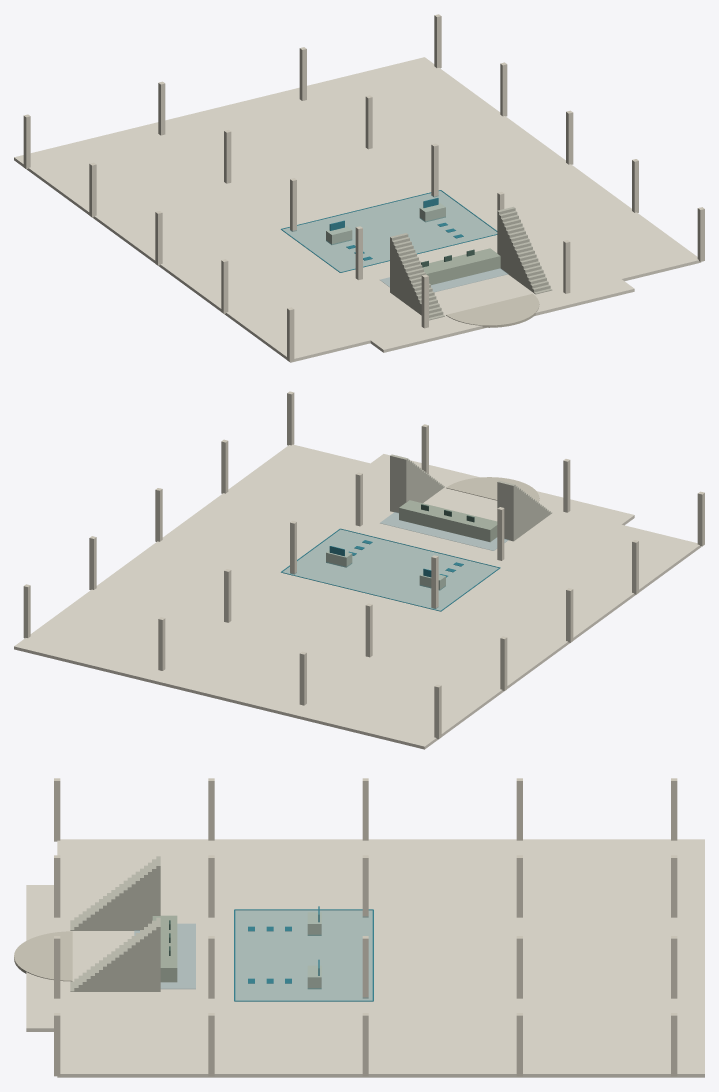
Rendered from 图书馆_1楼_试点启用.glb.
3 renders of one model, top to bottom at view 1: azimuth 30°, elevation 25°; view 2: azimuth 150°, elevation 25°; view 3: azimuth 270°, elevation 25°, orthographic. The views are drawn at different scales.
Visible parts, largest first — view 1: guide_outline_floor_slab, proposed_candidate_zone, photo_guided_curved_landing, service_counter, guide_function_tint; view 2: guide_outline_floor_slab, proposed_candidate_zone, service_counter, central_stair_tread (×2), photo_guided_curved_landing, guide_function_tint; view 3: guide_outline_floor_slab, proposed_candidate_zone, photo_guided_curved_landing, guide_function_tint, service_counter.
Part boxes in pixels (<box>): guide_outline_floor_slab: <box>14,57,701,362</box>; proposed_candidate_zone: <box>283,191,496,271</box>; photo_guided_curved_landing: <box>446,293,539,327</box>; service_counter: <box>422,248,500,284</box>; guide_function_tint: <box>380,268,507,292</box>; guide_outline_floor_slab: <box>14,444,701,749</box>; proposed_candidate_zone: <box>283,529,497,610</box>; service_counter: <box>399,500,497,542</box>; central_stair_tread (×2): <box>390,454,515,541</box>; photo_guided_curved_landing: <box>446,477,539,502</box>; guide_function_tint: <box>380,512,508,550</box>; guide_outline_floor_slab: <box>26,839,704,1077</box>; proposed_candidate_zone: <box>235,910,372,1000</box>; photo_guided_curved_landing: <box>14,931,72,981</box>; guide_function_tint: <box>134,923,195,989</box>; service_counter: <box>152,915,177,982</box>.
Size of the model in its own units: 36.4 by 4.9 by 44.8.
